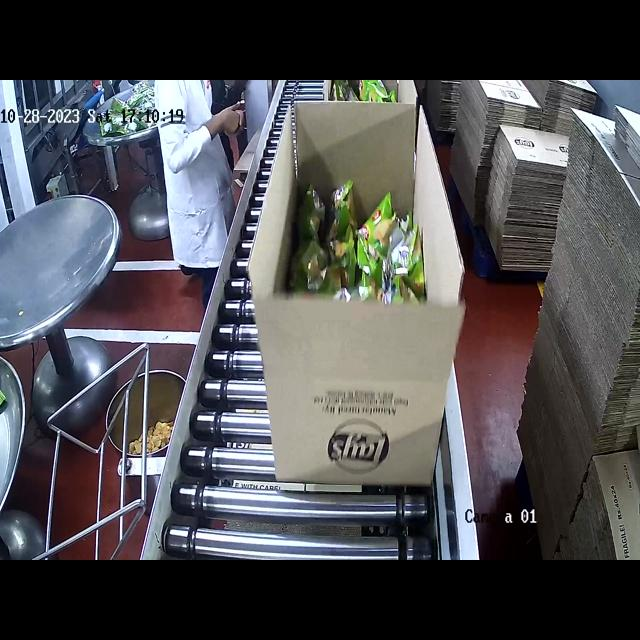yogurt: (289, 174, 430, 301)
